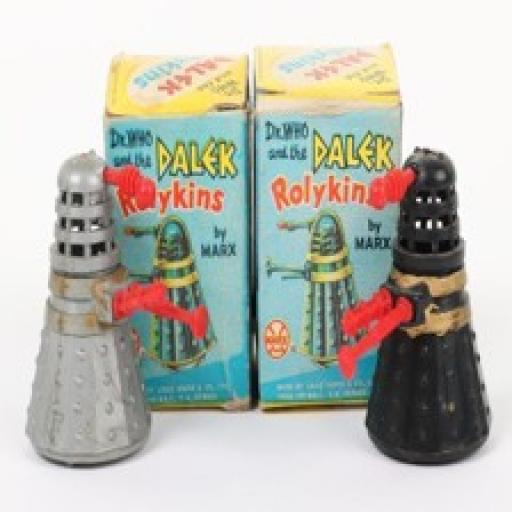dalek: (325, 134, 502, 470), (31, 150, 204, 467), (264, 200, 368, 376), (120, 212, 214, 380)
